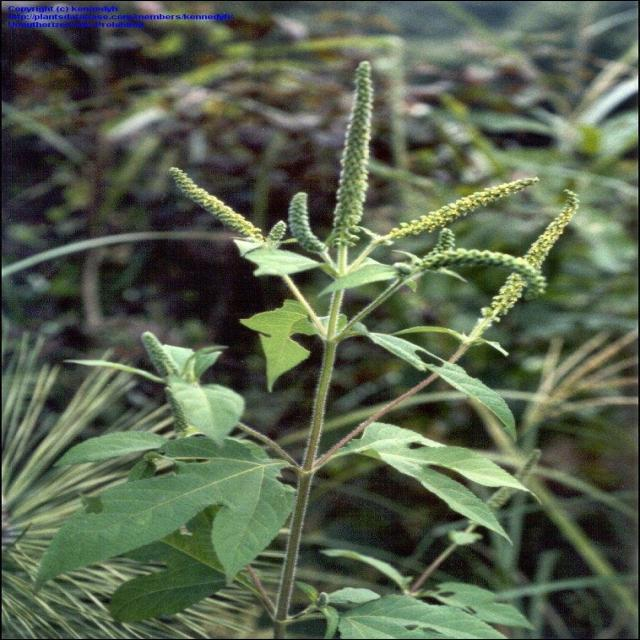ambrosia: (192, 46, 583, 345)
